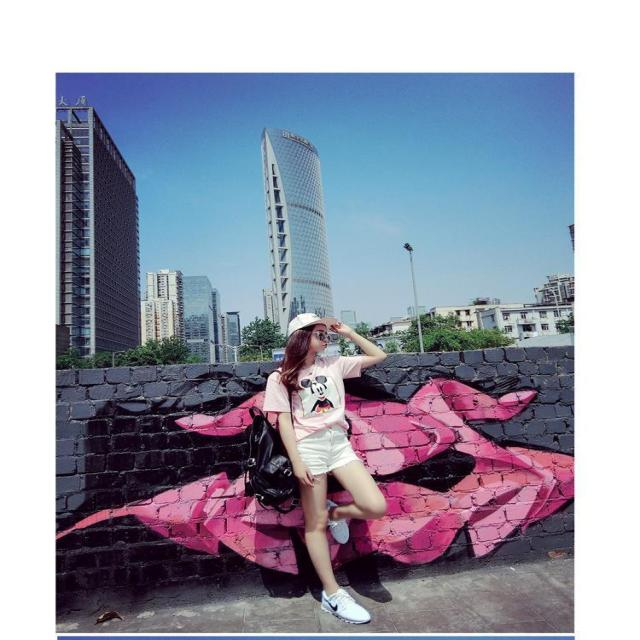short-sleeve-top: (272, 356, 404, 469)
